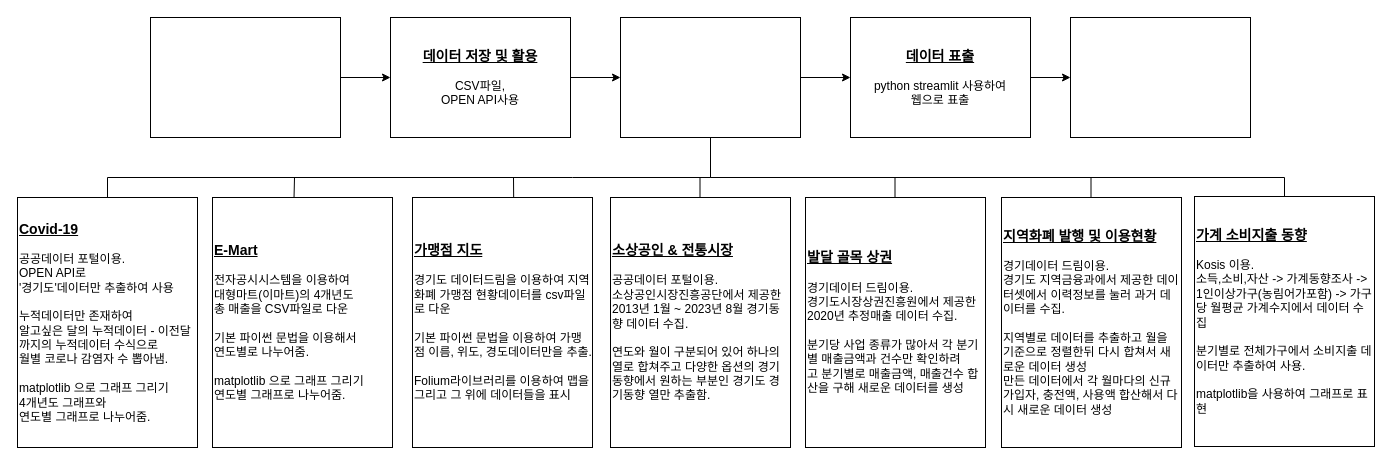
Some shapes in this 1392 by 465 pixel diagram are drawn without their labels. The centre of each missing label's shape, as x and y in pixels:
데이터 분석 표출한 그래프를 보며 가설 검증 및 분석 진행: point 1160,77
데이터 수집 공공데이터 포털, KOSIS, 전자공시시스템 , 경기데이터드림: point 245,77
데이터 전처리 python pandas 및 기본 문법사용 연도, 섹션별 필요데이터 추출: point 710,77
